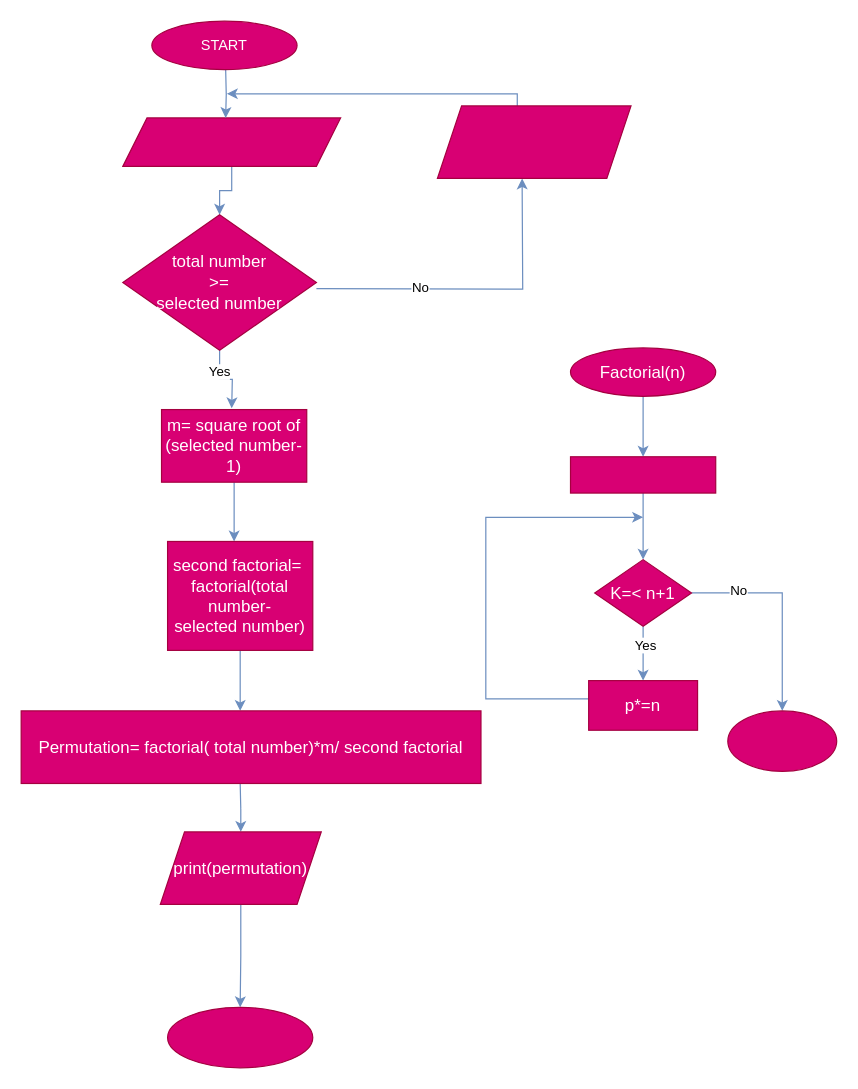
This 858x1089 diagram has some shape labels left out. The shapes that lost their labels are listed below. From the top down, each one's centre as x and y in pixels, then its label:
point 231,141: Read total number Read selected Object
point 533,141: print(make sure total number >= selected number
point 642,474: p=1,k=1
point 782,740: return P
point 239,1037: END
